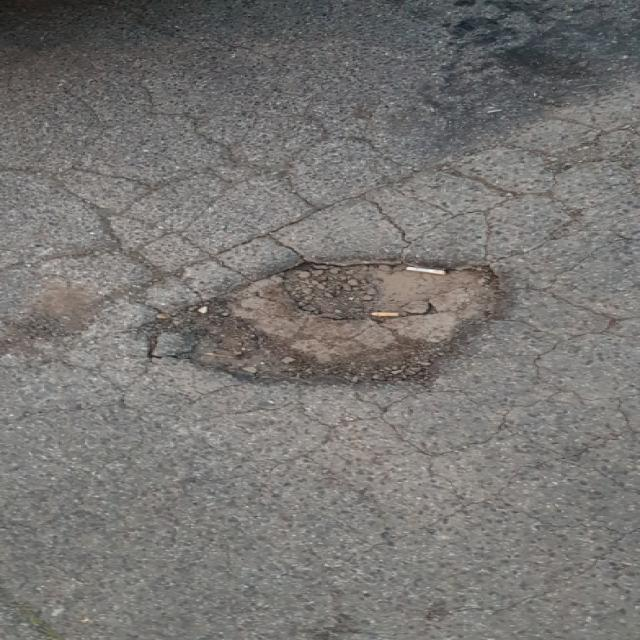pothole: (145, 246, 516, 388)
